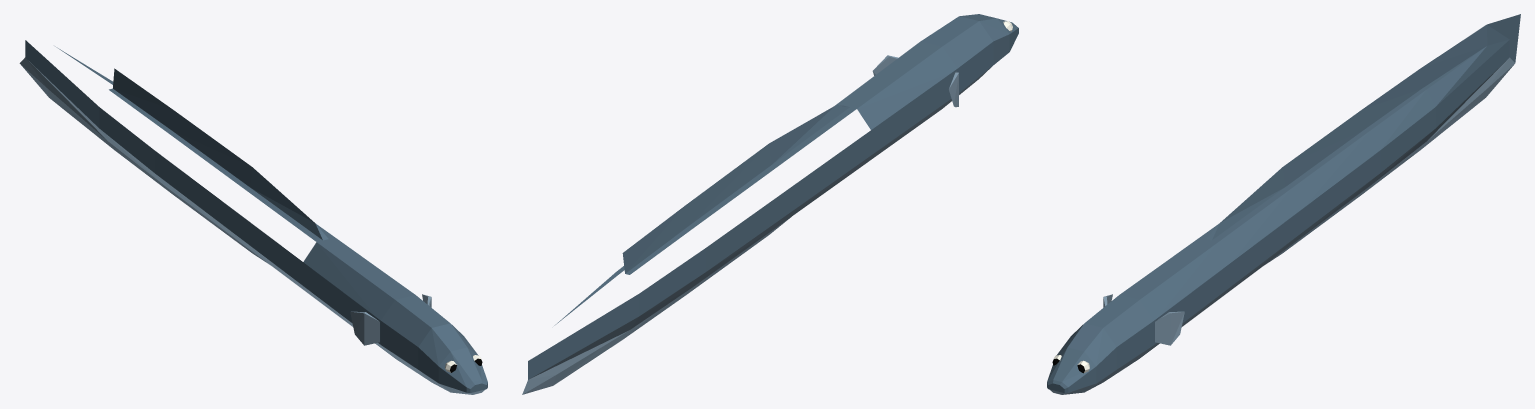
The model's file is morena-verde.glb.
The picture shows the model from 3 angles, left to right: view 1: azimuth 30°, elevation 25°; view 2: azimuth 150°, elevation 25°; view 3: azimuth 330°, elevation 25°; orthographic projection. The views are drawn at different scales.
Visible parts, largest first — view 1: Eel; view 2: Eel; view 3: Eel.
Boxes of the visible parts, x1,y1,x2,y2 form: Eel: [19, 40, 487, 394]; Eel: [522, 14, 1018, 394]; Eel: [1047, 14, 1520, 394].
Bounding box in the file's own units: 19.88 × 22.86 × 223.
Materials: 1 (1 with a texture image).
